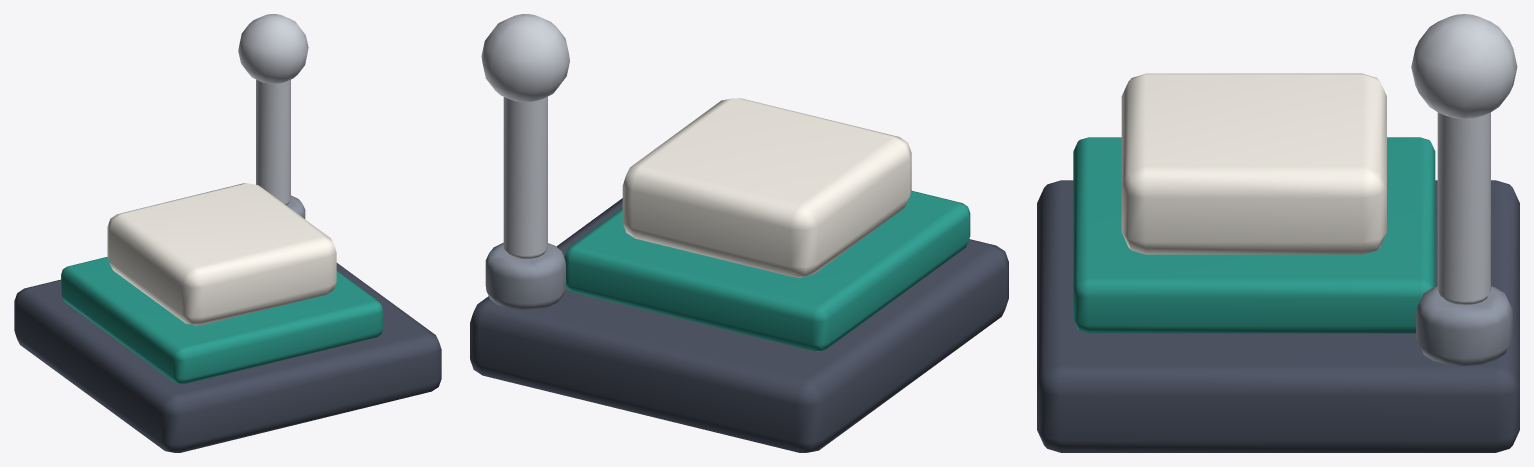
The model's file is Ctrl_Transmit.fbx.
3 views of the same model, side by side, from view 1: azimuth 30°, elevation 25°; view 2: azimuth 150°, elevation 25°; view 3: azimuth 270°, elevation 25° (orthographic). The views are drawn at different scales.
Visible parts, largest first — view 1: Ctrl_Transmit.Base, Ctrl_Transmit.Move_Button, Ctrl_Transmit.Plinth, Ctrl_Transmit.Antenna; view 2: Ctrl_Transmit.Base, Ctrl_Transmit.Move_Button, Ctrl_Transmit.Plinth, Ctrl_Transmit.Antenna; view 3: Ctrl_Transmit.Base, Ctrl_Transmit.Move_Button, Ctrl_Transmit.Plinth, Ctrl_Transmit.Antenna.
Boxes of the visible parts, x1=… form: Ctrl_Transmit.Base: x1=14, y1=263, x2=441, y2=452; Ctrl_Transmit.Move_Button: x1=107, y1=183, x2=336, y2=325; Ctrl_Transmit.Plinth: x1=61, y1=256, x2=382, y2=383; Ctrl_Transmit.Antenna: x1=238, y1=14, x2=308, y2=218; Ctrl_Transmit.Base: x1=470, y1=198, x2=1008, y2=452; Ctrl_Transmit.Move_Button: x1=622, y1=98, x2=911, y2=277; Ctrl_Transmit.Plinth: x1=564, y1=190, x2=970, y2=351; Ctrl_Transmit.Antenna: x1=481, y1=14, x2=569, y2=310; Ctrl_Transmit.Base: x1=1037, y1=180, x2=1519, y2=452; Ctrl_Transmit.Move_Button: x1=1121, y1=73, x2=1386, y2=254; Ctrl_Transmit.Plinth: x1=1073, y1=137, x2=1435, y2=333; Ctrl_Transmit.Antenna: x1=1411, y1=14, x2=1517, y2=365.
Bounding box in the file's own units: 0.2 × 0.192 × 0.2.
Materials: 1 (1 with a texture image).
